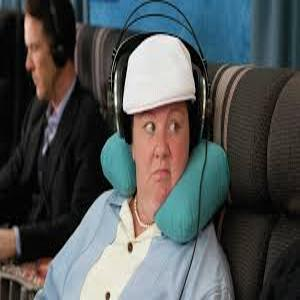Headphones: (111, 1, 213, 146)
